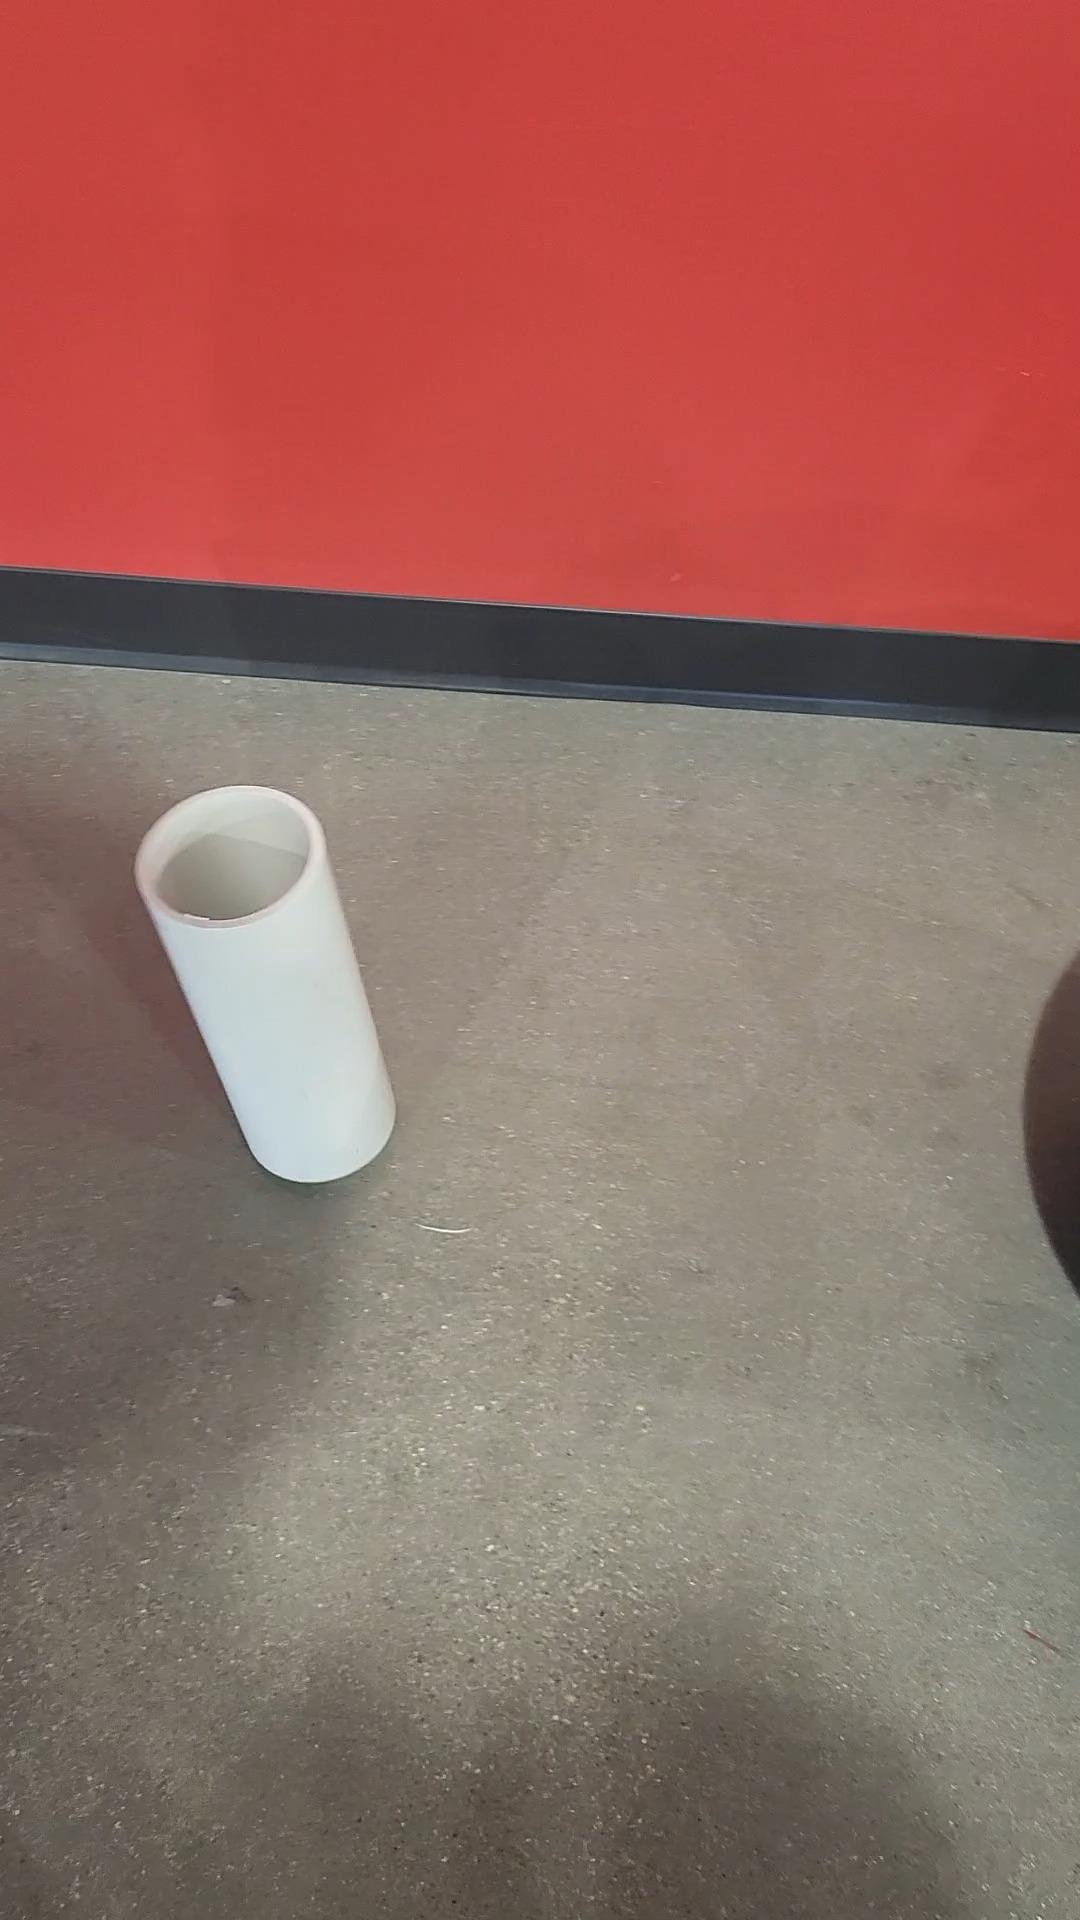coral: (136, 779, 401, 1187)
